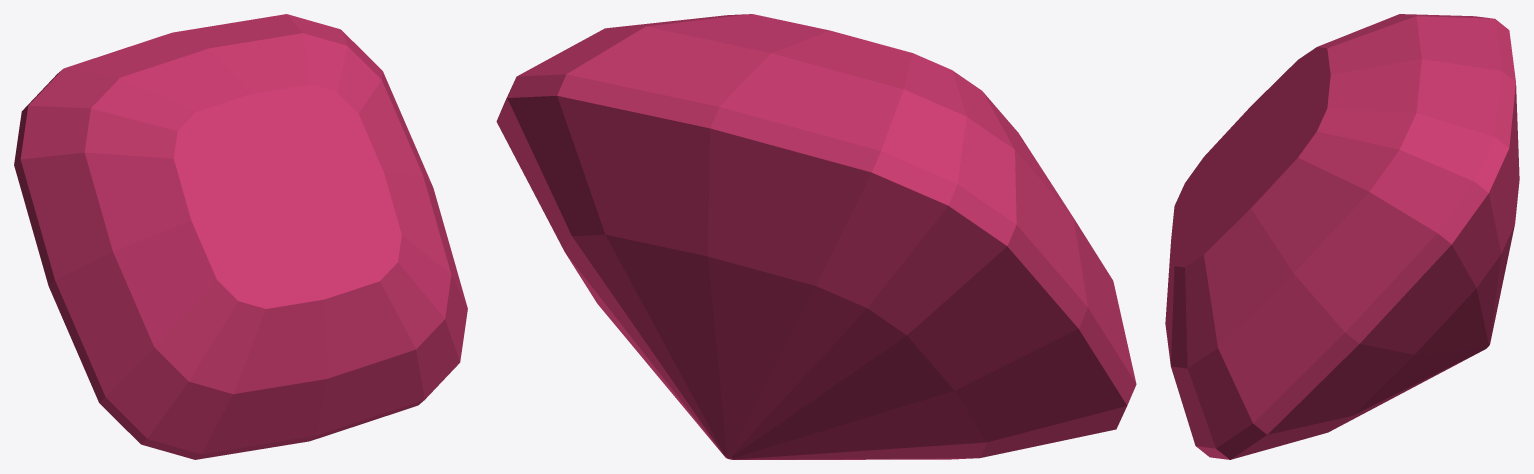
File: spinel.glb
3 renders of one model, left to right at view 1: azimuth 30°, elevation 25°; view 2: azimuth 150°, elevation 25°; view 3: azimuth 270°, elevation 25°, orthographic. The views are drawn at different scales.
Visible parts, largest first — view 1: spinel; view 2: spinel; view 3: spinel.
Boxes of the visible parts, x1,y1,x2,y2 form: spinel: (14, 14, 467, 459); spinel: (496, 14, 1136, 459); spinel: (1165, 14, 1519, 459).
Size of the model in its own units: 2.1 by 1.69 by 1.57.
